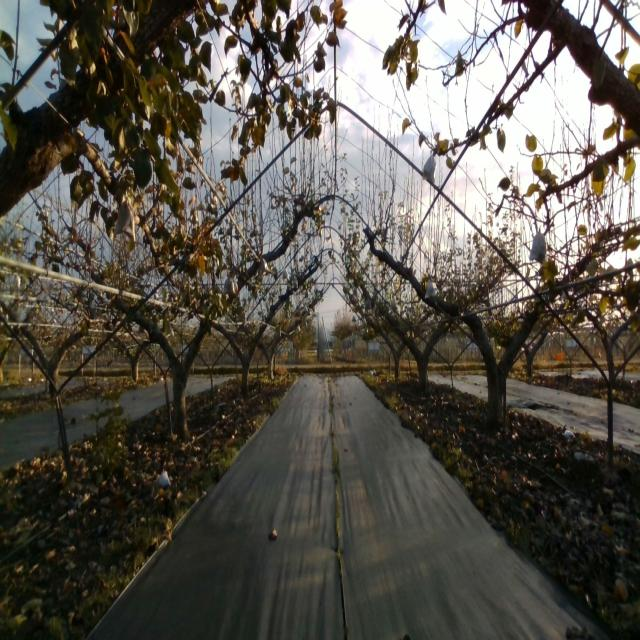pearbags: (113, 197, 136, 243), (530, 228, 548, 264), (422, 157, 436, 186), (222, 274, 238, 296), (425, 280, 440, 300), (259, 257, 272, 279)
